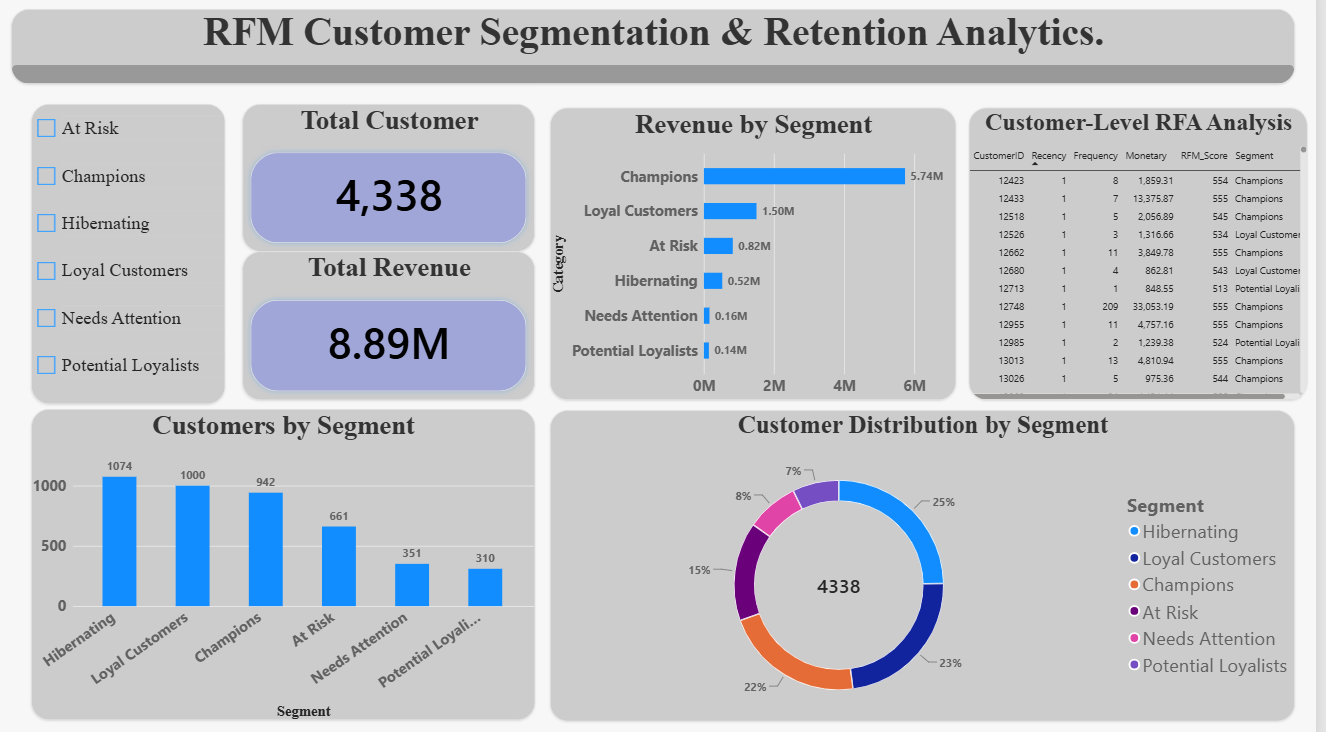

What the dashboard file says about the page in this screenshot:
{"tool":"powerbi","page":{"name":"Page 1","canvas":[1920,1080],"ordinal":0},"visuals":[{"type":"cardVisual","title":"Total Customer","fields":{"Data":["rfm_customer_segments.Total Customers"]},"box":[365.6,159.3,423.5,213.5],"z":0},{"type":"cardVisual","title":"Total Revenue","fields":{"Data":["Sum(rfm_customer_segments.Monetary)"]},"box":[365.6,372.8,423.5,215.3],"z":1000},{"type":"clusteredColumnChart","title":"Customers by Segment","fields":{"Category":["rfm_segment_summary.Segment"],"Y":["Sum(rfm_segment_summary.Customers)"]},"box":[59.7,600.8,729.3,450.6],"z":2000},{"type":"shape","title":"RFM Customer Segmentation & Retention Analytics.","box":[30.8,21.7,1858.5,108.6],"z":3000},{"type":"clusteredBarChart","title":"Revenue by Segment","fields":{"Category":["rfm_segment_summary.Segment"],"Y":["Sum(rfm_segment_summary.Total_Revenue)"]},"box":[810.7,164.7,588.1,423.5],"z":4000},{"type":"donutChart","title":"Customer Distribution by Segment","fields":{"Category":["rfm_segment_summary.Segment"],"Y":["Sum(rfm_segment_summary.Customers)"]},"box":[810.7,602.6,1078.6,450.6],"z":5000},{"type":"tableEx","title":"Customer-Level RFA Analysis","fields":{"Values":["rfm_customer_segments.CustomerID","rfm_customer_segments.Recency","rfm_customer_segments.Frequency","rfm_customer_segments.Monetary","rfm_customer_segments.RFM_Score","rfm_customer_segments.Segment"]},"box":[1417,164.7,490.4,423.5],"z":6000},{"type":"slicer","fields":{"Values":["rfm_customer_segments.Segment"]},"box":[59.7,159.3,280.5,434.3],"z":7000}]}

Visuals, with their boxes in screenshot pixels (x1, y1, x2, y2), scaled from the page's 1920x1080 canvas onto the 1326x732 screenshot:
"Total Customer" cardVisual: <bbox>252, 108, 545, 253</bbox>
"Total Revenue" cardVisual: <bbox>252, 253, 545, 399</bbox>
"Customers by Segment" clusteredColumnChart: <bbox>41, 407, 545, 713</bbox>
"RFM Customer Segmentation & Retention Analytics." shape: <bbox>21, 15, 1305, 88</bbox>
"Revenue by Segment" clusteredBarChart: <bbox>560, 112, 966, 399</bbox>
"Customer Distribution by Segment" donutChart: <bbox>560, 408, 1305, 714</bbox>
"Customer-Level RFA Analysis" tableEx: <bbox>979, 112, 1317, 399</bbox>
slicer - rfm_customer_segments.Segment: <bbox>41, 108, 235, 402</bbox>
